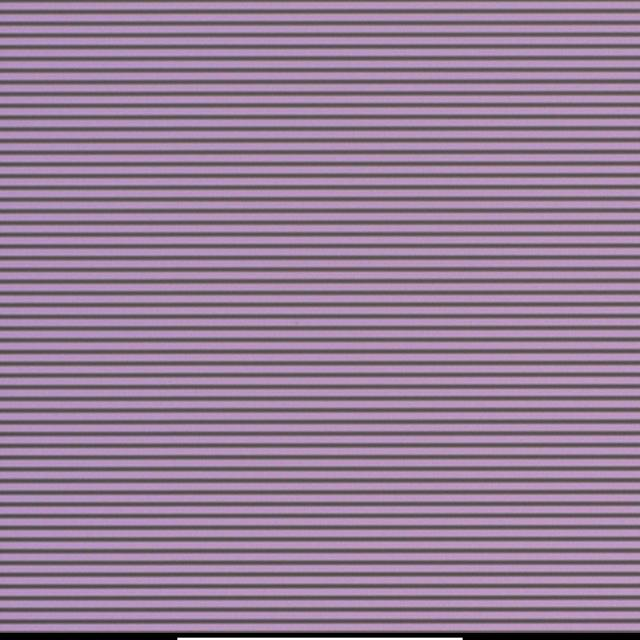nonvisual: (285, 315, 304, 335)
